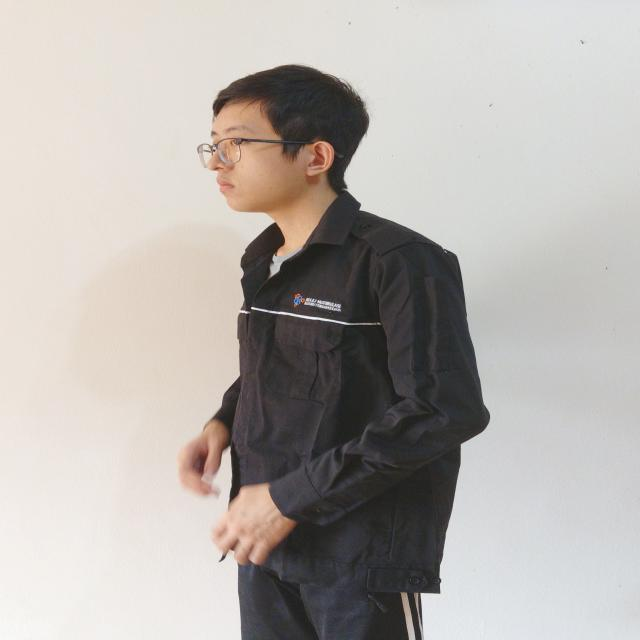person_with_labcoat: (179, 65, 489, 640)
